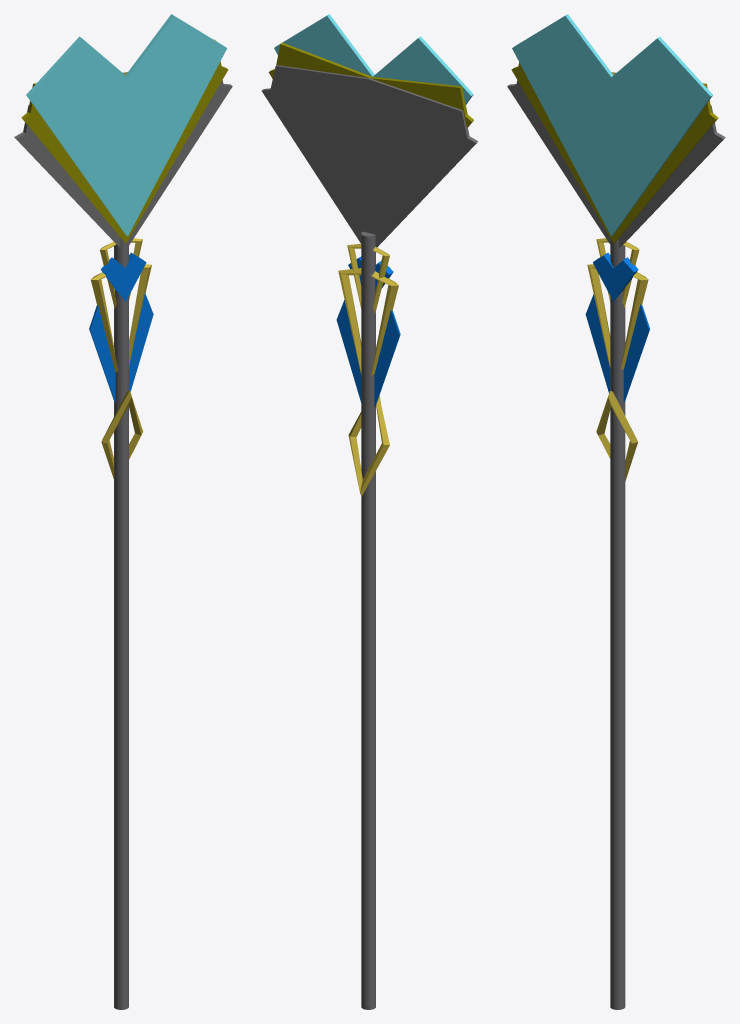
Rendered from Wand_Black_2.fbx.
3 views of the same model, side by side, from view 1: azimuth 30°, elevation 25°; view 2: azimuth 150°, elevation 25°; view 3: azimuth 330°, elevation 25° (orthographic).
Parts seen in each view (by area): view 1: Cube.009, Cylinder.001, Cube.007, Cube.008, Cube.005, Torus.004, Cube.006, Torus.005; view 2: Cube.007, Cylinder.001, Cube.009, Cube.008, Cube.005, Torus.004, Torus.005, Torus.003; view 3: Cube.009, Cylinder.001, Cube.007, Cube.008, Cube.005, Torus.004, Cube.006, Torus.005.
Boxes of the visible parts, x1,y1,x2,y2 form: Cube.009: [26, 14, 227, 236]; Cylinder.001: [114, 238, 128, 1009]; Cube.007: [14, 72, 232, 247]; Cube.008: [21, 39, 228, 243]; Cube.005: [89, 293, 153, 402]; Torus.004: [91, 264, 151, 372]; Cube.006: [101, 252, 146, 301]; Torus.005: [101, 390, 143, 478]; Cube.007: [261, 65, 478, 247]; Cylinder.001: [361, 231, 375, 1009]; Cube.009: [274, 14, 473, 104]; Cube.008: [268, 42, 473, 127]; Cube.005: [336, 300, 400, 406]; Torus.004: [338, 268, 398, 375]; Torus.005: [348, 395, 389, 496]; Torus.003: [347, 243, 389, 313]; Cube.009: [512, 14, 712, 236]; Cylinder.001: [610, 239, 625, 1009]; Cube.007: [507, 72, 725, 247]; Cube.008: [511, 62, 718, 243]; Cube.005: [585, 294, 649, 402]; Torus.004: [587, 264, 648, 369]; Cube.006: [593, 252, 638, 301]; Torus.005: [596, 391, 637, 481].
Bounding box in the file's own units: 212 × 921 × 31.08.
